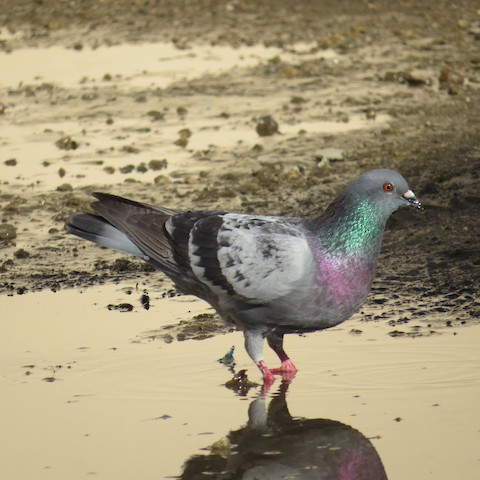pigeon: (59, 160, 427, 401)
